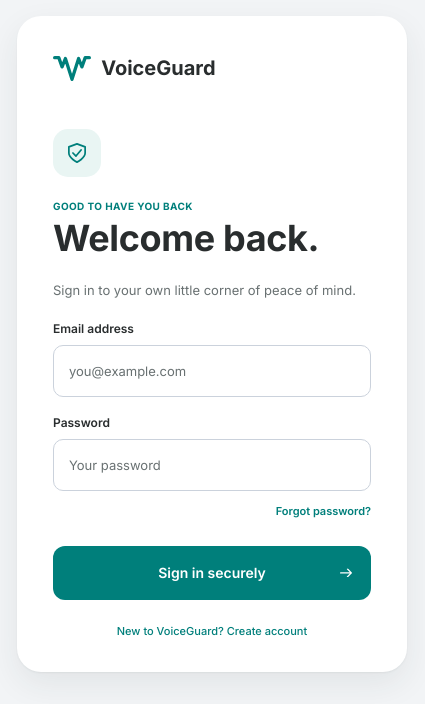
Test: SignInPage › checks the fields before sending anything
Click the button "Sign in securely".
click(212, 573)  # box top-left (53, 546), bottom-right (371, 600)
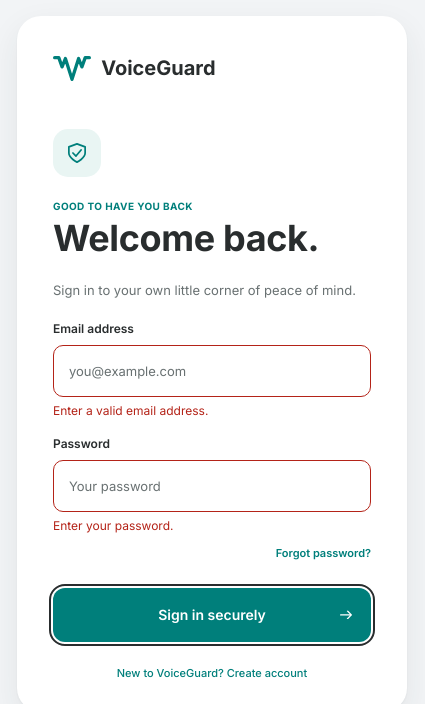
Result: the text "Enter a valid email address." is shown at top-left (53, 403), bottom-right (208, 418)
Result: the text "Enter your password." is shown at top-left (53, 518), bottom-right (174, 533)
